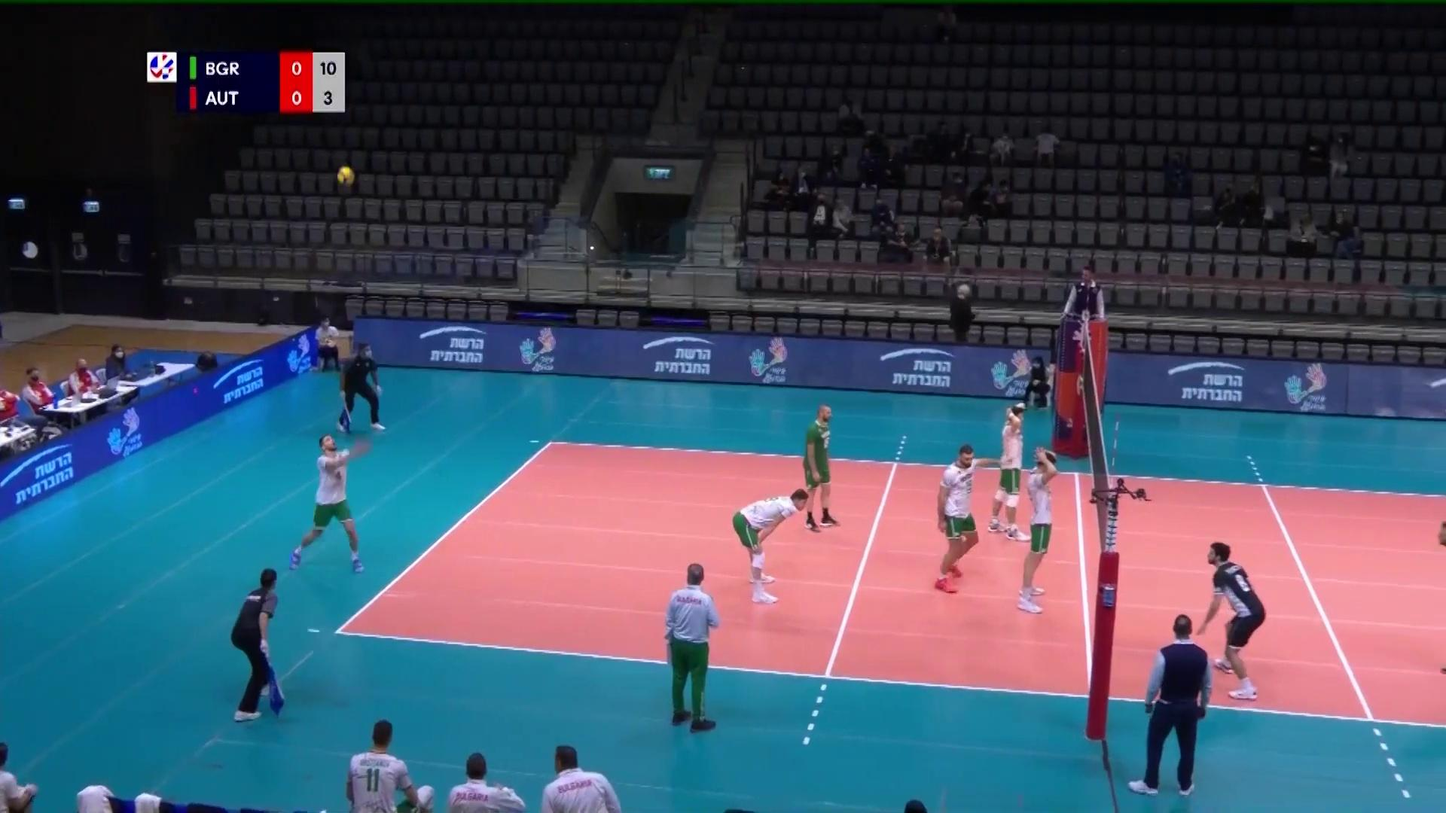ball: (335, 166, 357, 185)
